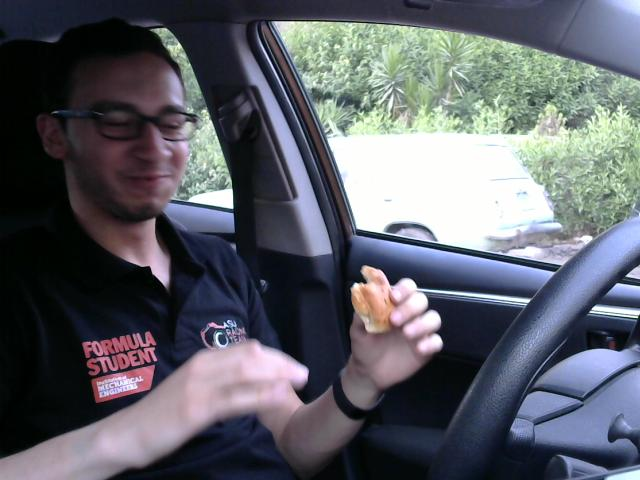Eating: (348, 255, 405, 342)
